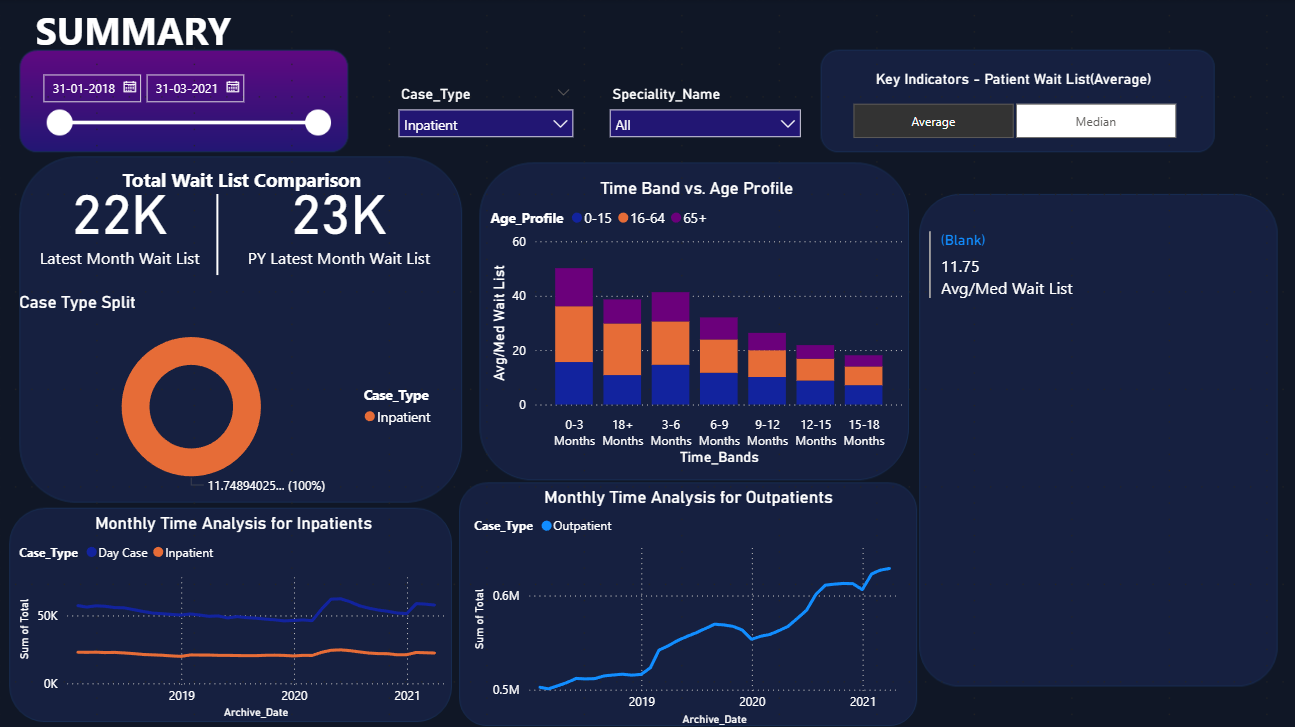

The page's visual inventory and layout, read from the dashboard file:
{"tool":"powerbi","page":{"name":"Summary","canvas":[1280,720],"ordinal":0},"visuals":[{"type":"card","fields":{"Values":["All_Data.Latest Month Wait List"]},"box":[32,160,176,112],"z":0},{"type":"card","fields":{"Values":["All_Data.PY Latest Month Wait List"]},"box":[240,160,192,112],"z":1000},{"type":"slicer","fields":{"Values":["Calculation Method.Calc Method"]},"box":[816,96,368,48],"z":2000},{"type":"donutChart","title":"Case Type Split","fields":{"Category":["All_Data.Case_Type"],"Y":["All_Data.Avg/Med Wait List"]},"box":[16,288,432,208],"z":3000},{"type":"columnChart","title":"Time Band vs. Age Profile","fields":{"Y":["All_Data.Avg/Med Wait List"],"Category":["All_Data.Time_Bands"],"Series":["All_Data.Age_Profile"]},"box":[480,176,416,288],"z":4000},{"type":"multiRowCard","fields":{"Values":["All_Data.Speciality_Name","All_Data.Avg/Med Wait List"]},"box":[912,224,352,448],"z":5000},{"type":"card","fields":{"Values":["All_Data.NoDataLeft"]},"box":[160,592,240,48],"z":5500},{"type":"lineChart","title":"Monthly Time Analysis for Inpatients","fields":{"Category":["All_Data.Archive_Date"],"Y":["Sum(All_Data.Total)"],"Series":["All_Data.Case_Type"]},"box":[16,506,432,208],"z":6000},{"type":"card","fields":{"Values":["All_Data.NoDataRight"]},"box":[624,608,240,48],"z":7000},{"type":"lineChart","title":"Monthly Time Analysis for Outpatients","fields":{"Category":["All_Data.Archive_Date"],"Y":["Sum(All_Data.Total)"],"Series":["All_Data.Case_Type"]},"box":[464,480,432,240],"z":8000},{"type":"slicer","fields":{"Values":["All_Data.Archive_Date"]},"box":[32,64,304,112],"z":9000},{"type":"slicer","fields":{"Values":["All_Data.Case_Type"]},"box":[384,80,192,64],"z":10000},{"type":"slicer","fields":{"Values":["All_Data.Speciality_Name"]},"box":[592,80,208,64],"z":11000},{"type":"textbox","box":[32,0,240,64],"z":12000},{"type":"shape","box":[96,192,240,80],"z":13000},{"type":"textbox","box":[96,160,288,48],"z":14000},{"type":"card","fields":{"Values":["All_Data.Dynamic Title"]},"box":[832,64,336,32],"z":15000}]}

Visuals, with their boxes in screenshot pixels (x1, y1, x2, y2), scaled from the page's 1280x720 canvas onto the 1295x727 screenshot:
card - All_Data.Latest Month Wait List: 32,162,210,275
card - All_Data.PY Latest Month Wait List: 243,162,437,275
slicer - Calculation Method.Calc Method: 826,97,1198,145
"Case Type Split" donutChart: 16,291,453,501
"Time Band vs. Age Profile" columnChart: 486,178,906,469
multiRowCard - All_Data.Speciality_Name x All_Data.Avg/Med Wait List: 923,226,1279,679
card - All_Data.NoDataLeft: 162,598,405,646
"Monthly Time Analysis for Inpatients" lineChart: 16,511,453,721
card - All_Data.NoDataRight: 631,614,874,662
"Monthly Time Analysis for Outpatients" lineChart: 469,485,906,726
slicer - All_Data.Archive_Date: 32,65,340,178
slicer - All_Data.Case_Type: 388,81,583,145
slicer - All_Data.Speciality_Name: 599,81,809,145
textbox: 32,0,275,65
shape: 97,194,340,275
textbox: 97,162,388,210
card - All_Data.Dynamic Title: 842,65,1182,97
